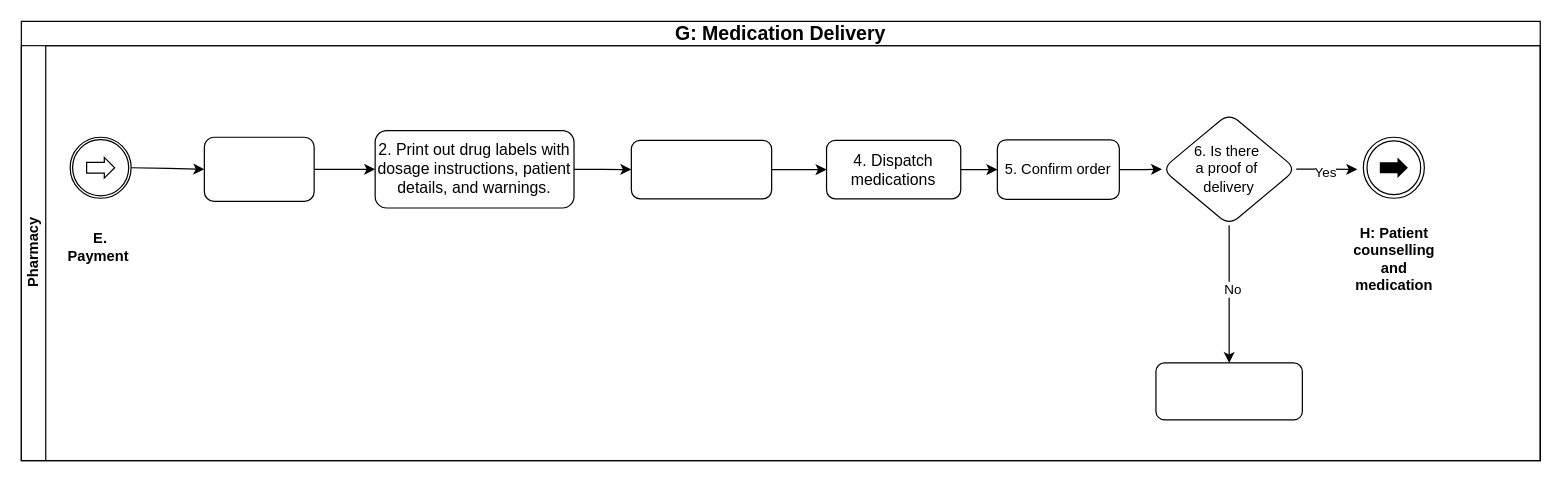
The diagram is 1562 pixels wide and 482 high, and some of its shapes have lost their labels. Here are the shapes that lost their labels. From the top down, the centre of each, then its label:
At [258,168]: "1. Package medications for dispatch.".
At [701,169]: "3. Enter delivery information".
At [1228,391]: "Return to Pharmacy".
